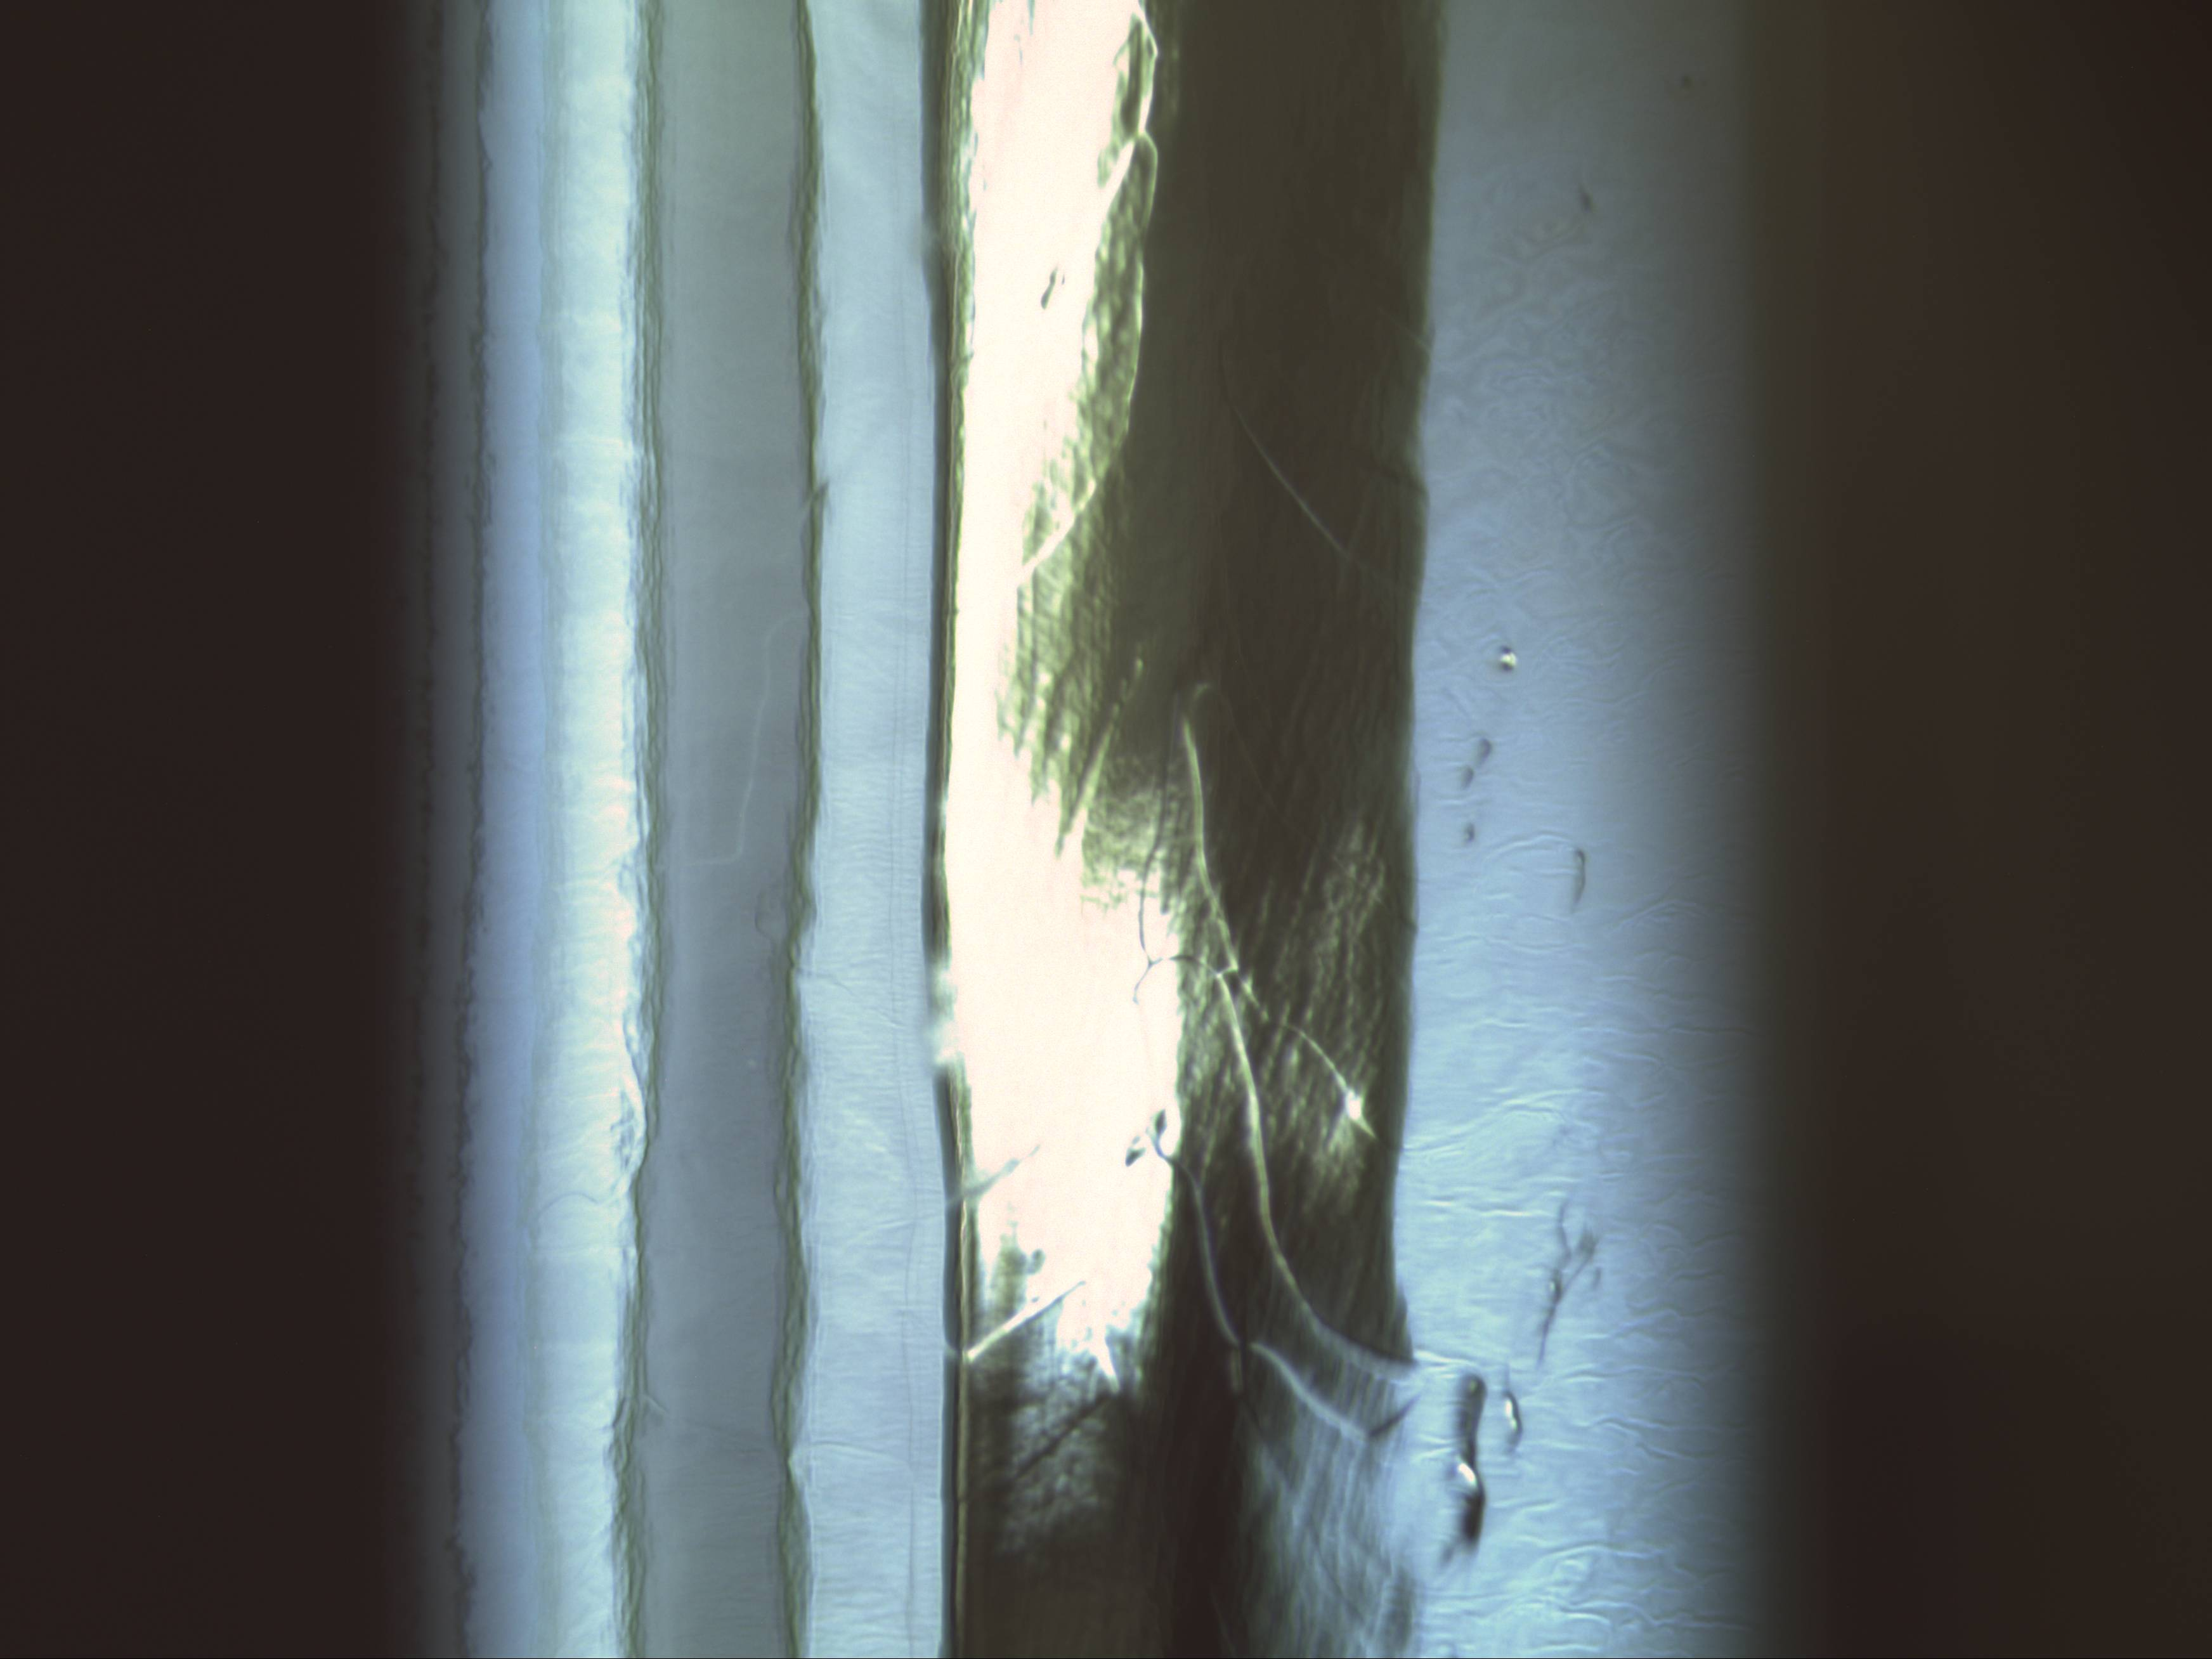defect: (1489, 638, 1526, 671)
